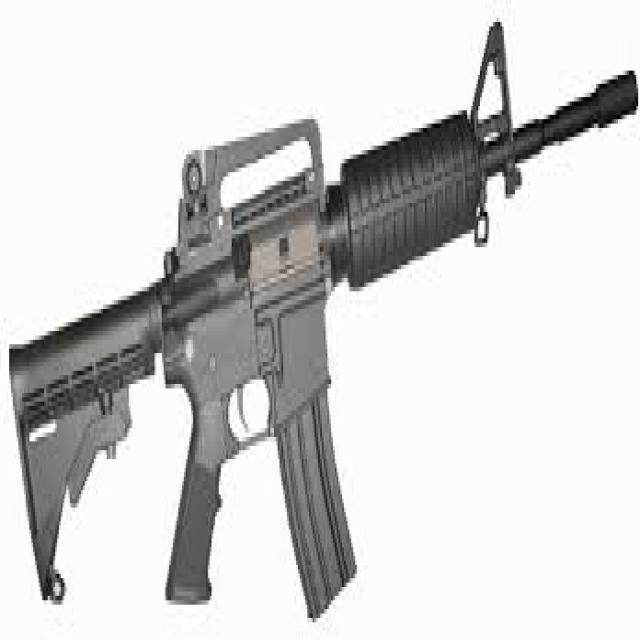rifle: (3, 22, 640, 633)
